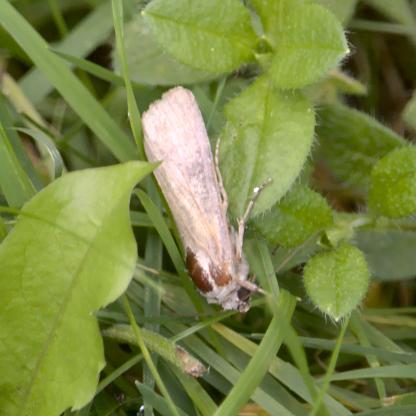Fall Armyworm Moth: (139, 82, 323, 320)
